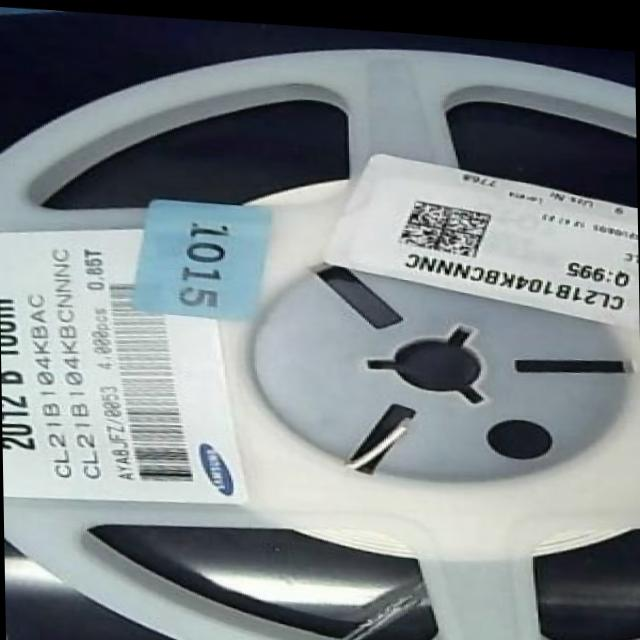datamatrix: (395, 190, 498, 253)
